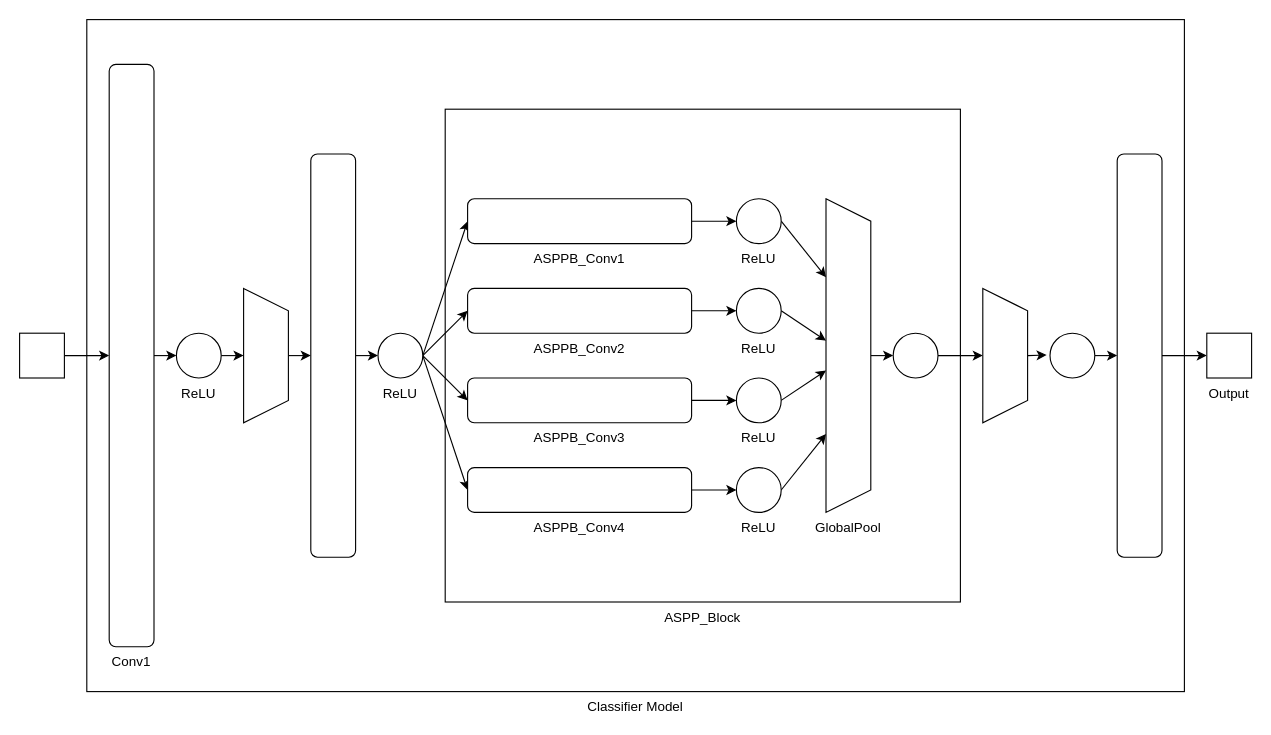
The diagram is 1271 pixels wide and 735 high, and some of its shapes have lost their labels. The shapes that lost their labels are listed below. From the top down, each one's centre as x and y in pixels, then its label:
At (x=41, y=355): "Input".
At (x=265, y=355): "MaxPool".
At (x=333, y=355): "Conv2".
At (x=915, y=355): "cat".
At (x=1005, y=355): "AveragePool".
At (x=1072, y=355): "Flatten".
At (x=1139, y=355): "MLPNet".
